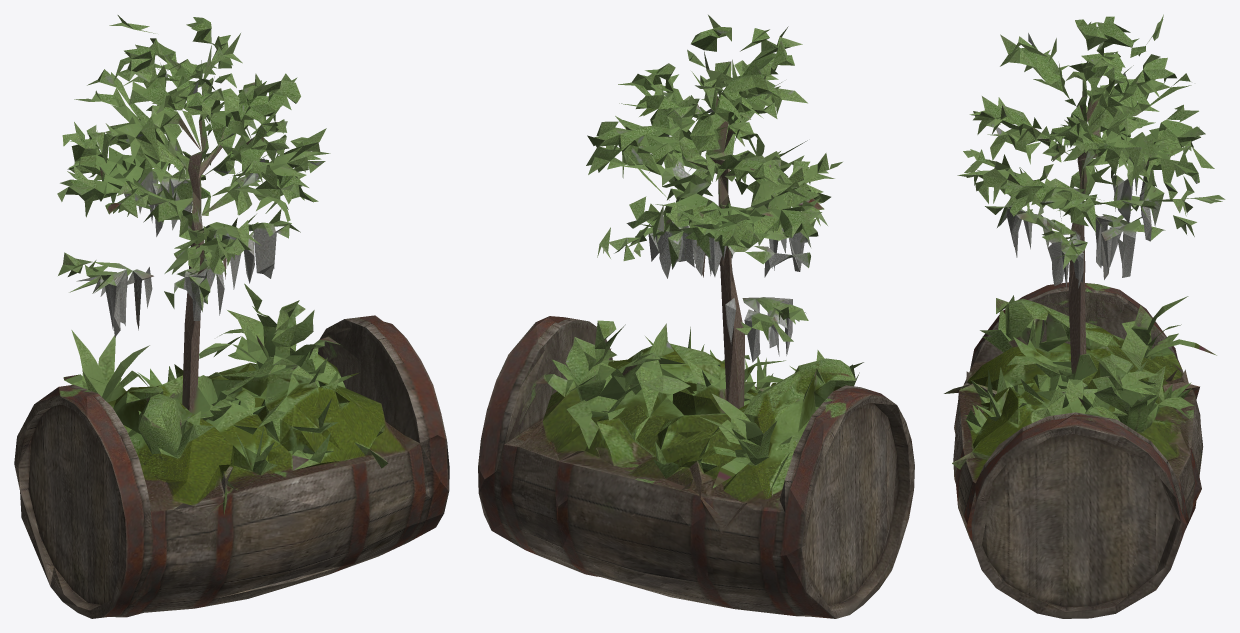
Rendered from planter.glb.
The picture shows the model from 3 angles, left to right: view 1: azimuth 30°, elevation 25°; view 2: azimuth 150°, elevation 25°; view 3: azimuth 270°, elevation 25°; orthographic projection. The views are drawn at different scales.
Parts seen in each view (by area): view 1: Mesh_0; view 2: Mesh_0; view 3: Mesh_0.
Part boxes in pixels (bbox=[...]): Mesh_0: bbox=[14, 15, 449, 618]; Mesh_0: bbox=[478, 15, 914, 618]; Mesh_0: bbox=[944, 14, 1225, 618].
Bounding box in the file's own units: 1.1 × 1.83 × 0.8951.
1 material, 1 textured.
